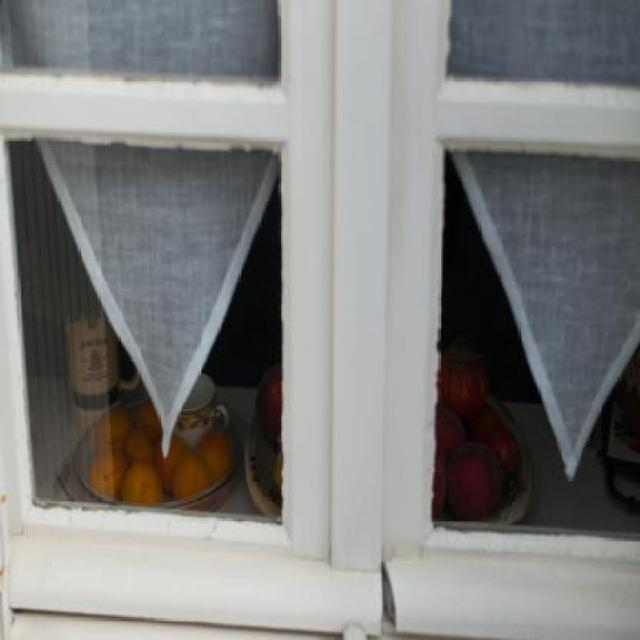Orange: (89, 410, 234, 506)
